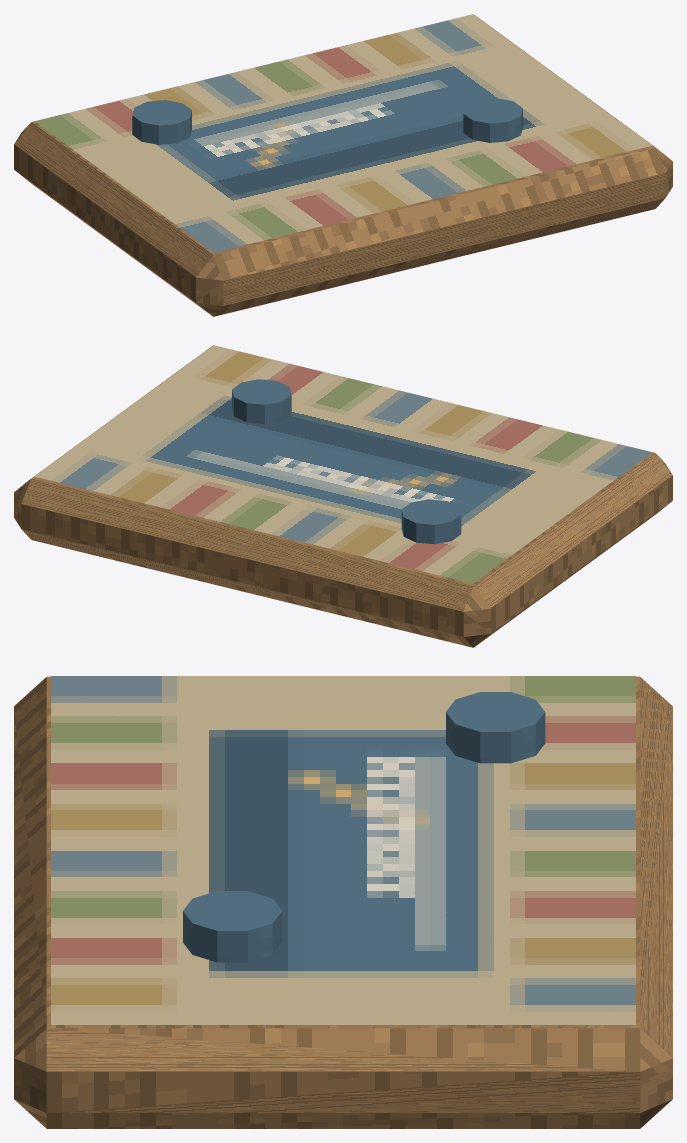
File: clue.glb
The picture shows the model from 3 angles, top to bottom: view 1: azimuth 30°, elevation 25°; view 2: azimuth 150°, elevation 25°; view 3: azimuth 270°, elevation 25°; orthographic projection. The views are drawn at different scales.
Visible parts, largest first — view 1: block_printed game board, block_board game base, block_move counter (×2); view 2: block_printed game board, block_board game base, block_move counter (×2); view 3: block_printed game board, block_board game base, block_move counter (×2).
Boxes of the visible parts, left/top/right/bottom form: block_printed game board: left=35, top=14, right=651, bottom=252; block_board game base: left=14, top=14, right=672, bottom=316; block_move counter (×2): left=132, top=98, right=522, bottom=144; block_printed game board: left=35, top=345, right=651, bottom=583; block_board game base: left=14, top=345, right=672, bottom=647; block_move counter (×2): left=232, top=379, right=461, bottom=544; block_printed game board: left=51, top=676, right=635, bottom=1024; block_board game base: left=14, top=676, right=672, bottom=1128; block_move counter (×2): left=183, top=692, right=545, bottom=962.
Size of the model in its own units: 0.1508 by 0.0248 by 0.1107.
1 material, 1 textured.
